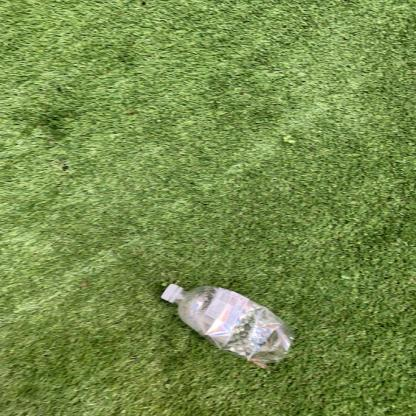trash: (160, 280, 305, 376)
